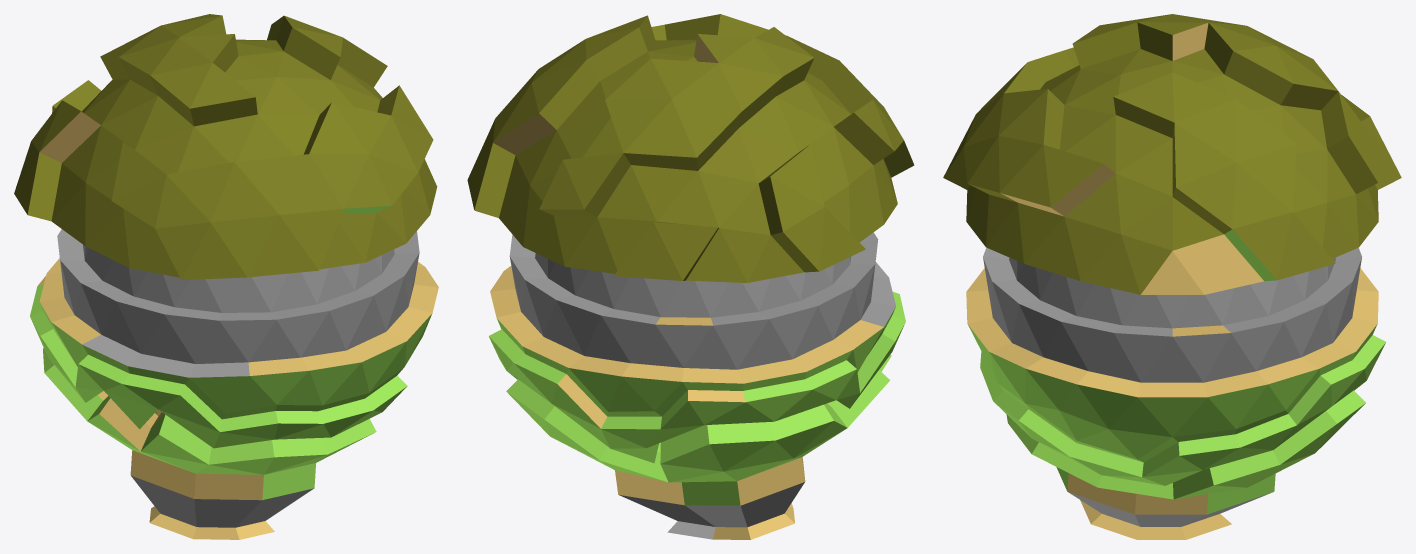
Rendered from Planeta_5.fbx.
3 views of the same model, side by side, from view 1: azimuth 30°, elevation 25°; view 2: azimuth 150°, elevation 25°; view 3: azimuth 270°, elevation 25° (orthographic). The views are drawn at different scales.
Parts seen in each view (by area): view 1: Icosphere.004; view 2: Icosphere.004; view 3: Icosphere.004.
Boxes of the visible parts, bbox=[...] form: Icosphere.004: bbox=[14, 14, 438, 539]; Icosphere.004: bbox=[467, 14, 914, 539]; Icosphere.004: bbox=[943, 14, 1401, 539].
Bounding box in the file's own units: 2018 × 2580 × 2125.
